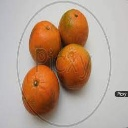orange: (22, 63, 58, 116)
